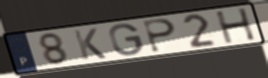2: (181, 12, 221, 50)
8: (36, 32, 71, 67)
G: (107, 22, 145, 58)
H: (213, 6, 258, 46)
K: (71, 27, 109, 62)
P: (141, 17, 178, 54)
